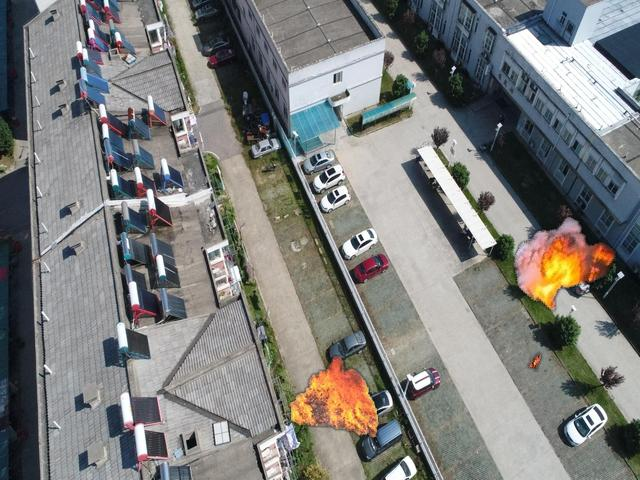fire: (511, 216, 617, 310), (289, 355, 379, 437), (526, 349, 543, 370)
